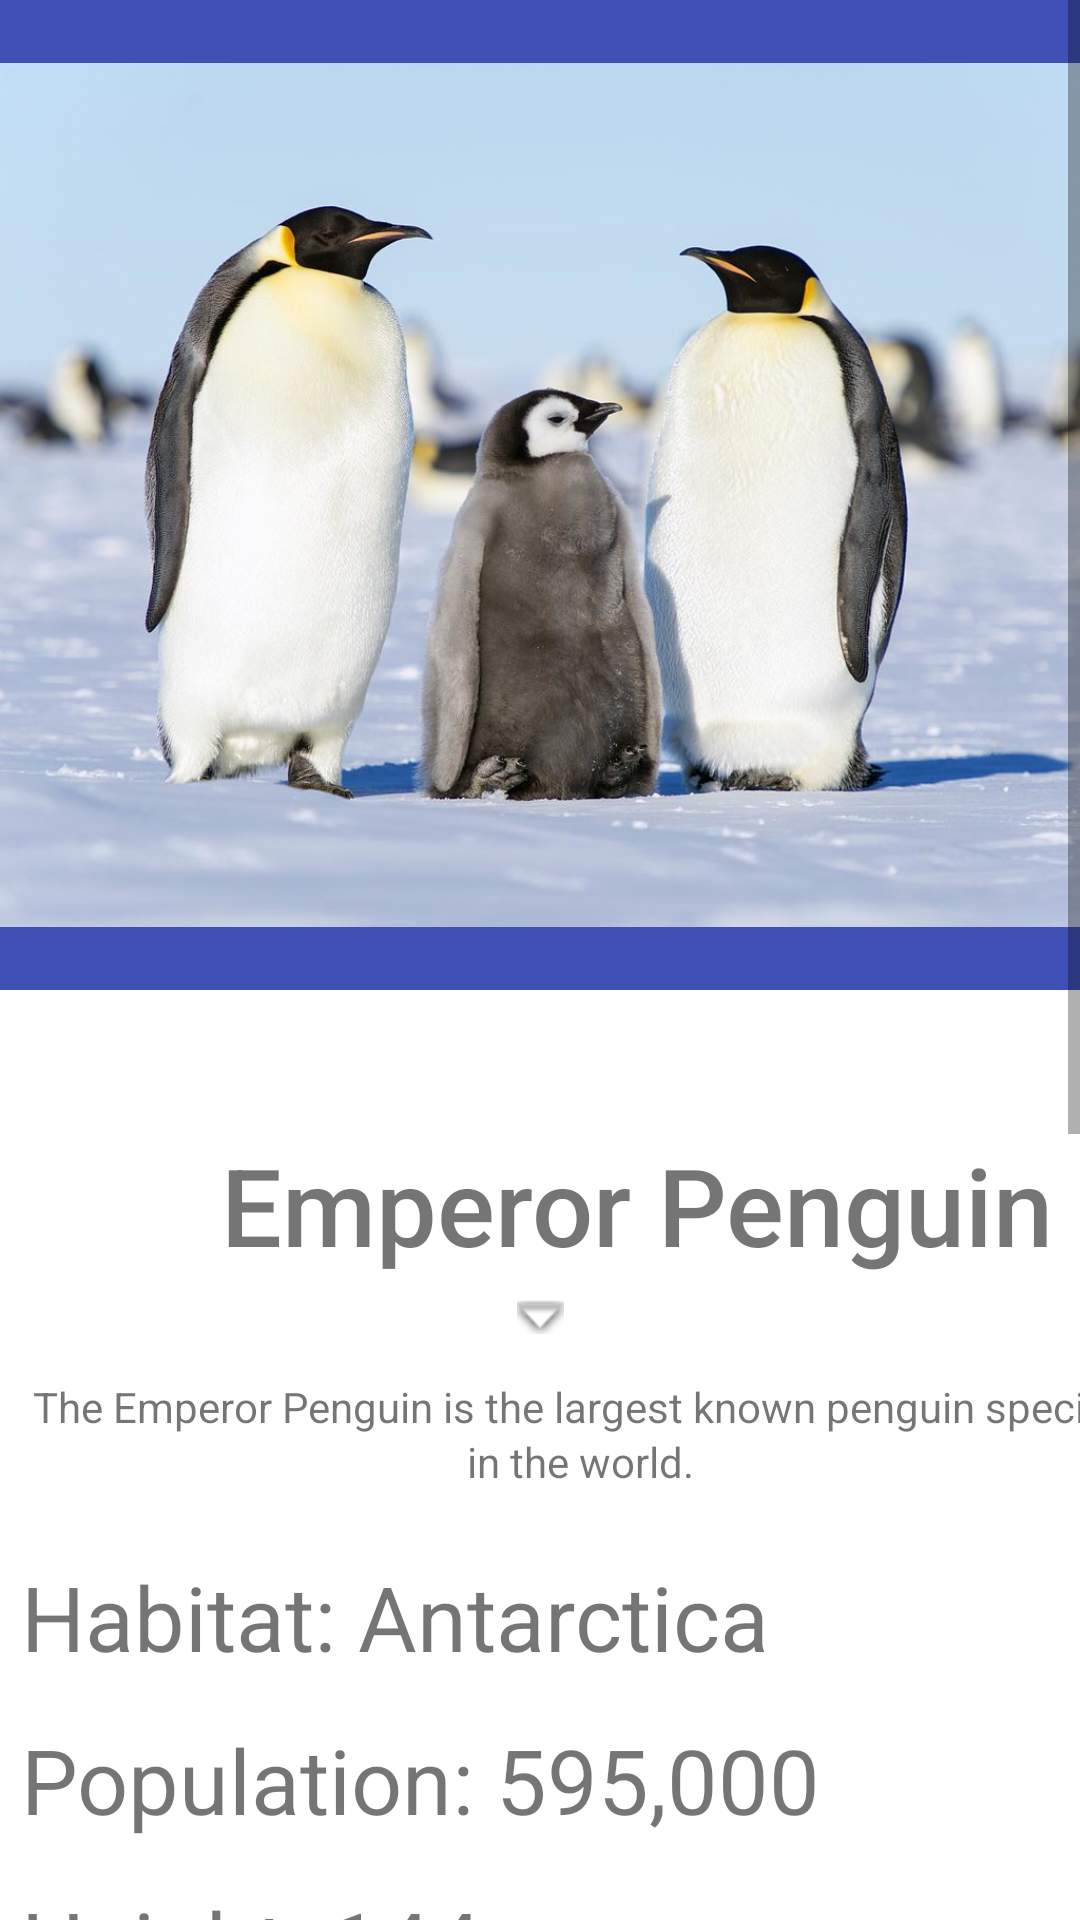

Locate icon controls on the screen. Image size 1080*1920, boxes as bbox=(x1, y1, x2, y2).
arrow down float: bbox=(517, 1301, 564, 1333)
